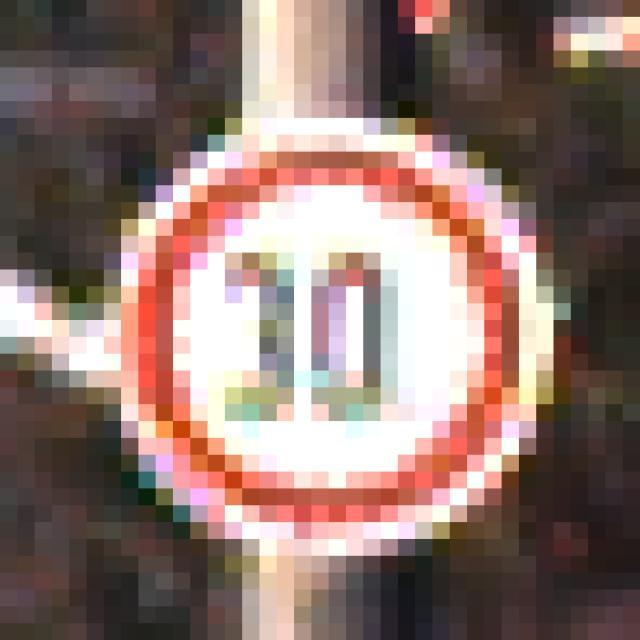Speed Limit -30-: (78, 92, 545, 548)
